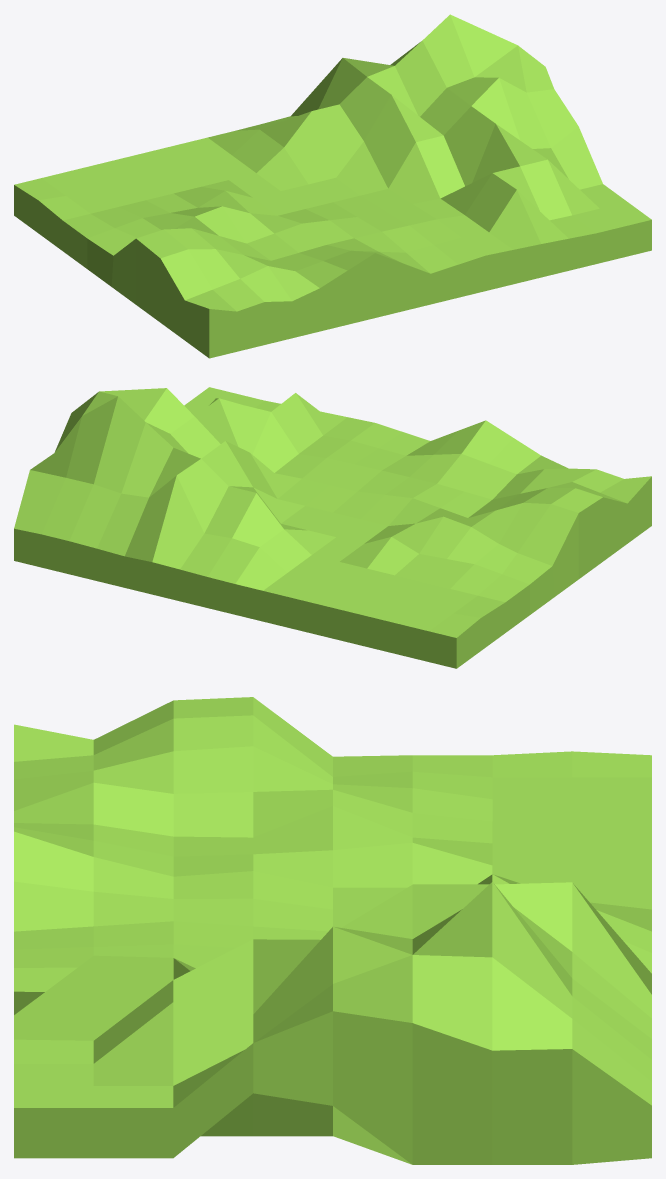
The picture shows the model from 3 angles, top to bottom: view 1: azimuth 30°, elevation 25°; view 2: azimuth 150°, elevation 25°; view 3: azimuth 270°, elevation 25°; orthographic projection. The views are drawn at different scales.
Visible parts, largest first — view 1: 1/1; view 2: 1/1; view 3: 1/1.
Boxes of the visible parts, x1,y1,x2,y2 form: 1/1: [14, 14, 651, 358]; 1/1: [14, 387, 651, 668]; 1/1: [14, 697, 651, 1164].
Size of the model in its own units: 5528 by 1641 by 4080.
